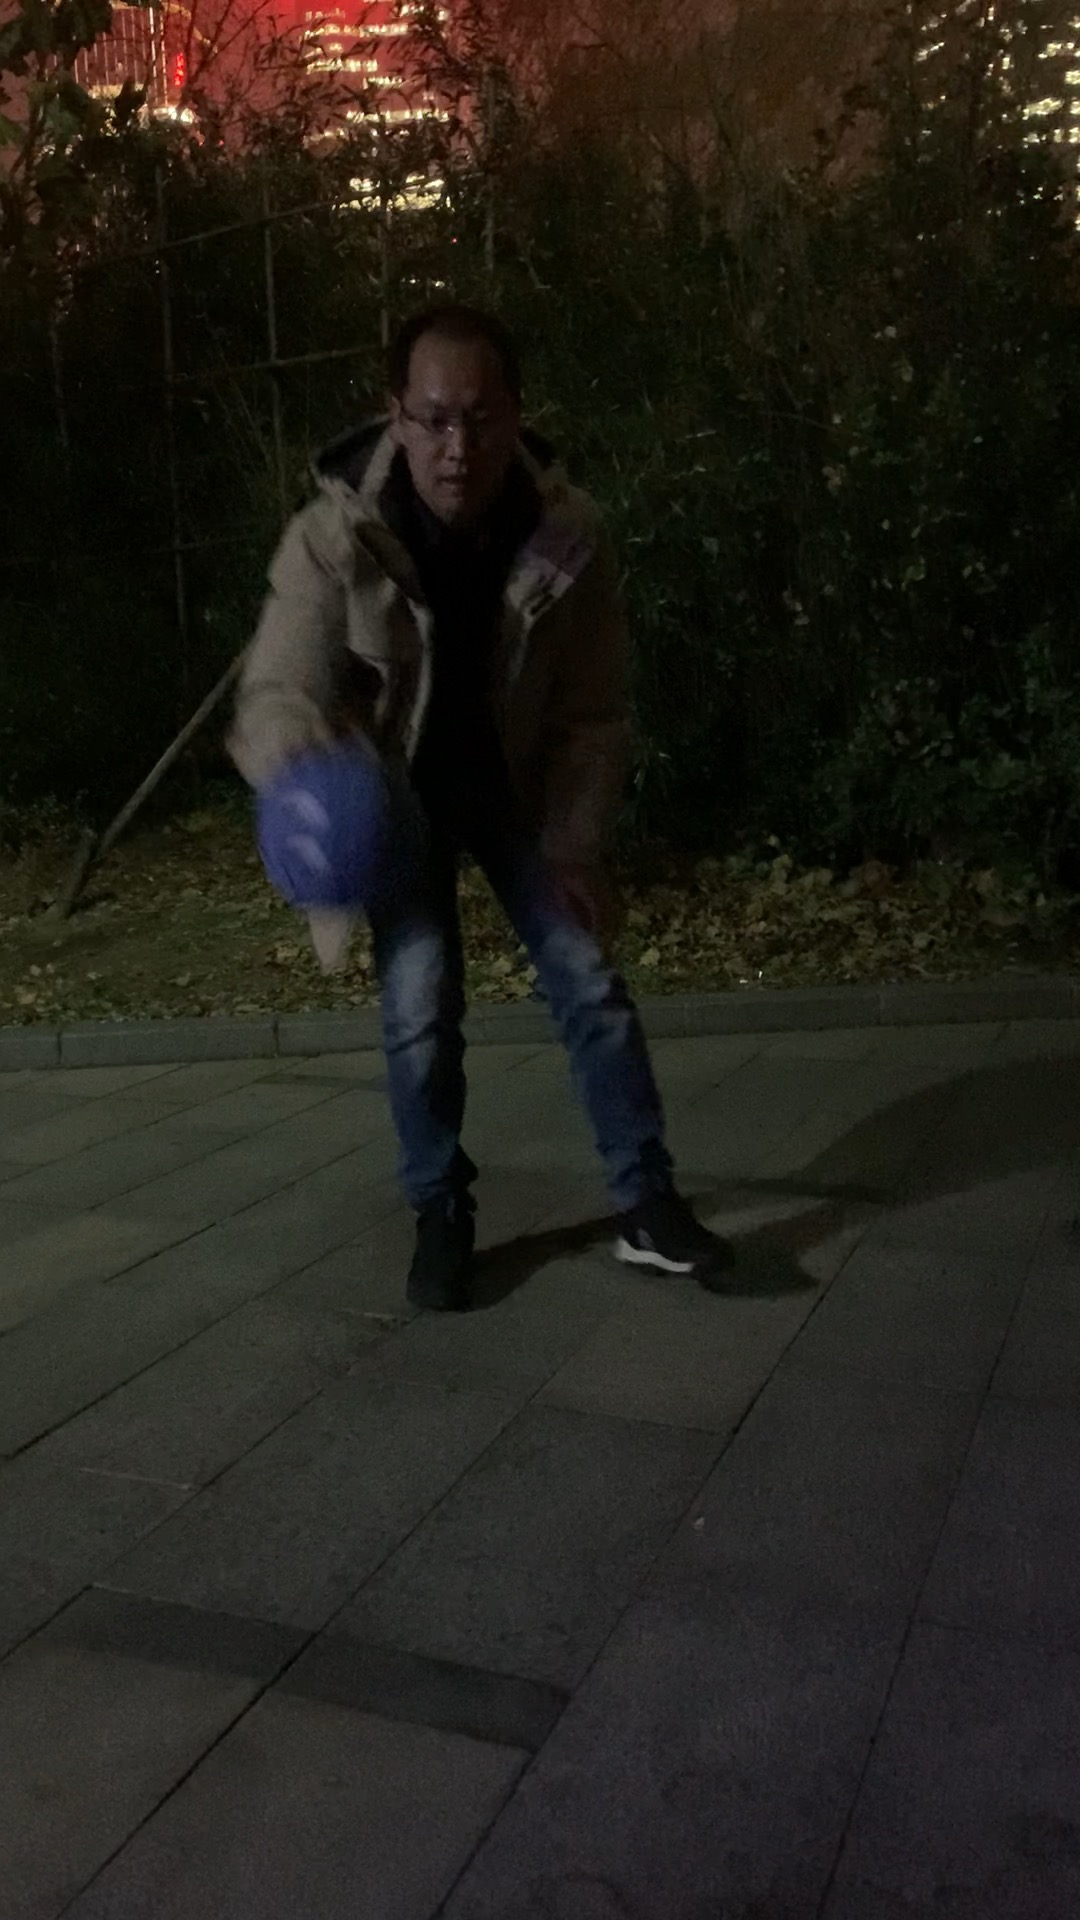ball: (258, 745, 415, 919)
